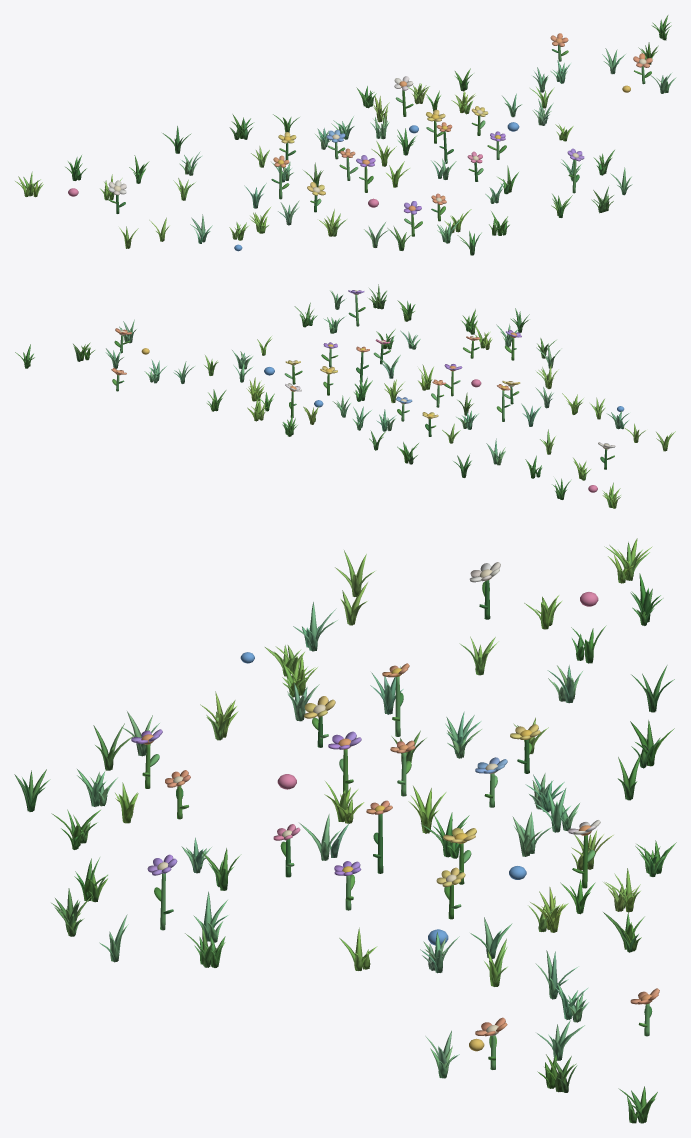
Rendered from W4_SpillFlora.fbx.
The picture shows the model from 3 angles, top to bottom: view 1: azimuth 30°, elevation 25°; view 2: azimuth 150°, elevation 25°; view 3: azimuth 270°, elevation 25°; orthographic projection. The views are drawn at different scales.
Parts seen in each view (by area): view 1: W4_SpillFlora; view 2: W4_SpillFlora; view 3: W4_SpillFlora.
Boxes of the visible parts, bbox=[...] form: W4_SpillFlora: bbox=[15, 15, 676, 255]; W4_SpillFlora: bbox=[15, 284, 675, 508]; W4_SpillFlora: bbox=[14, 538, 676, 1123].
Size of the model in its own units: 2.56 by 0.1532 by 1.27.
